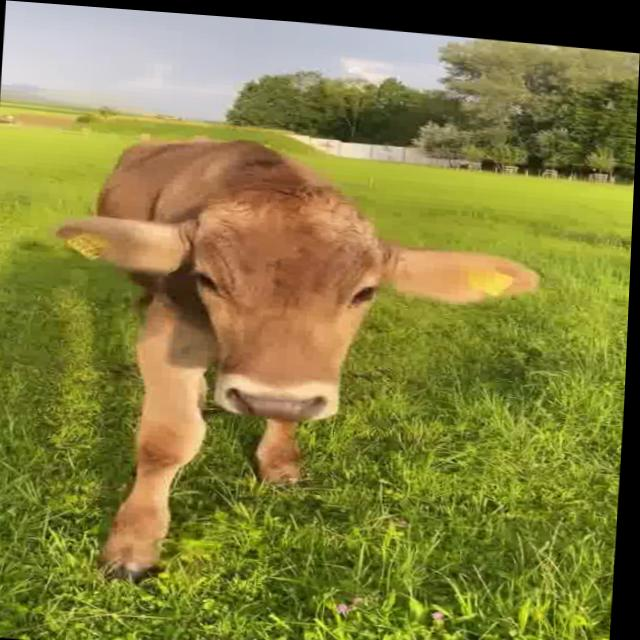cowFace: (17, 160, 560, 413)
